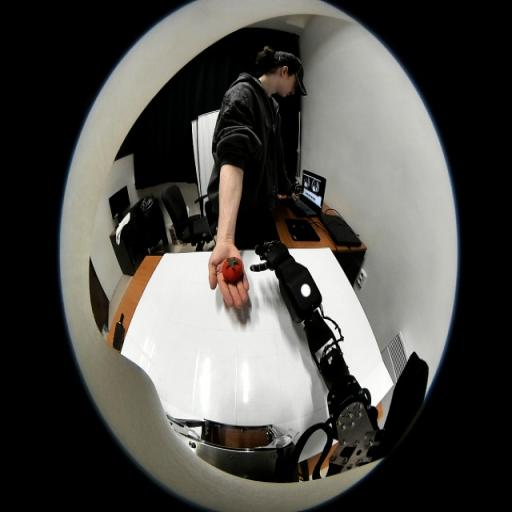RightHand: (268, 244, 287, 262)
Tomato: (222, 257, 243, 282)
